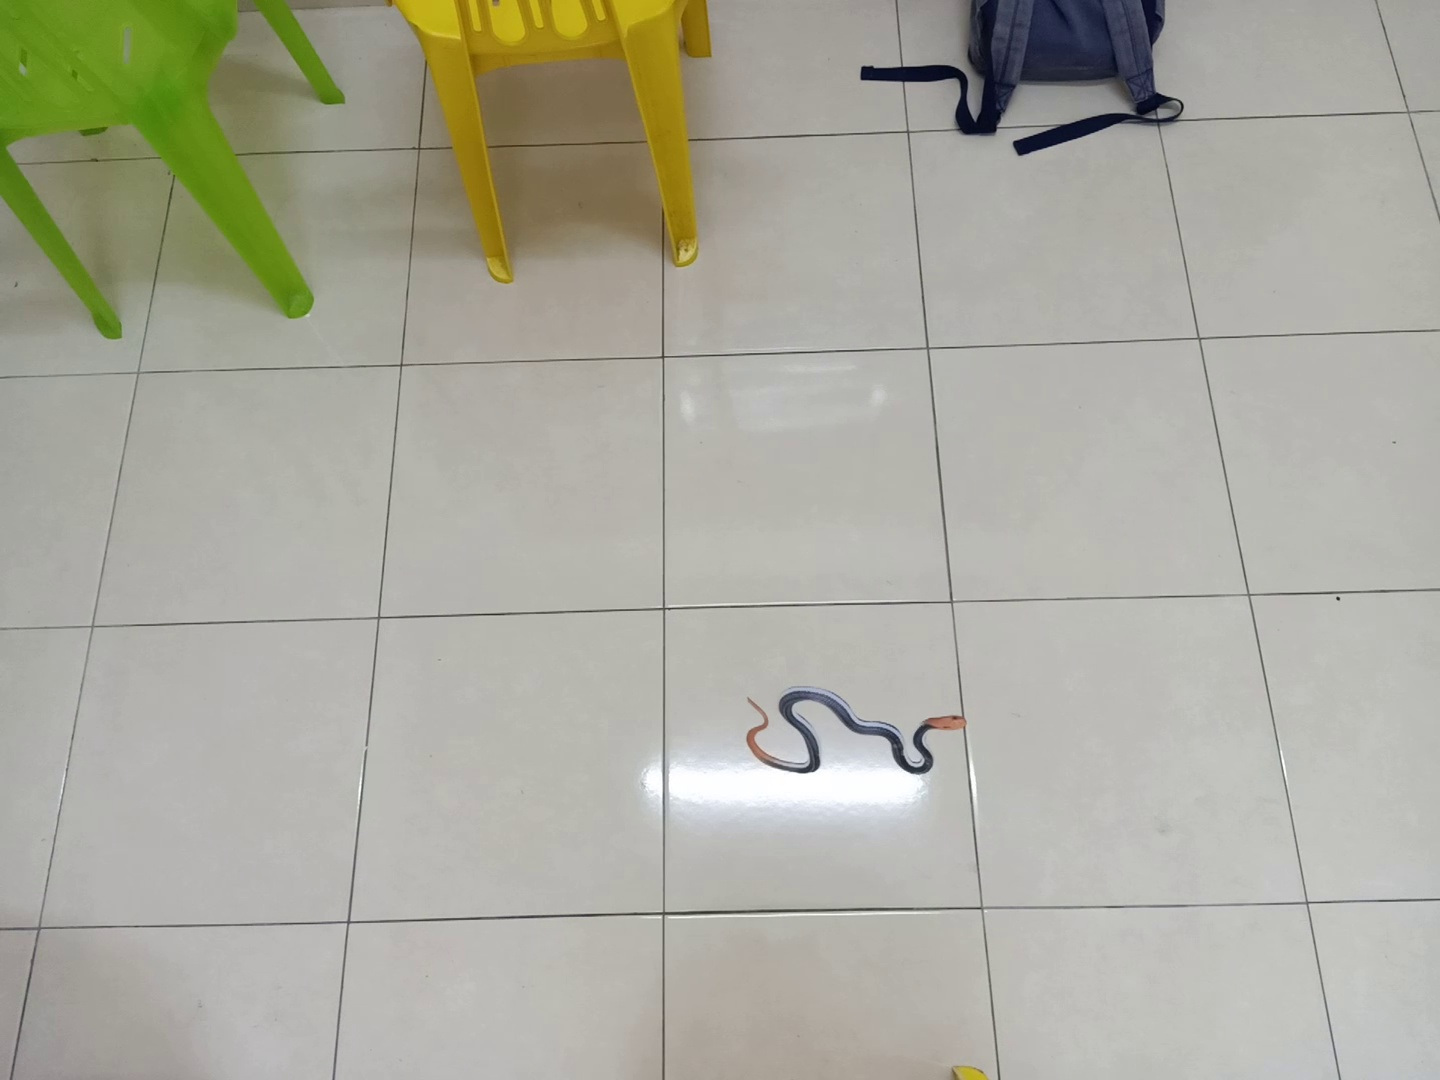snake: (742, 680, 980, 781)
